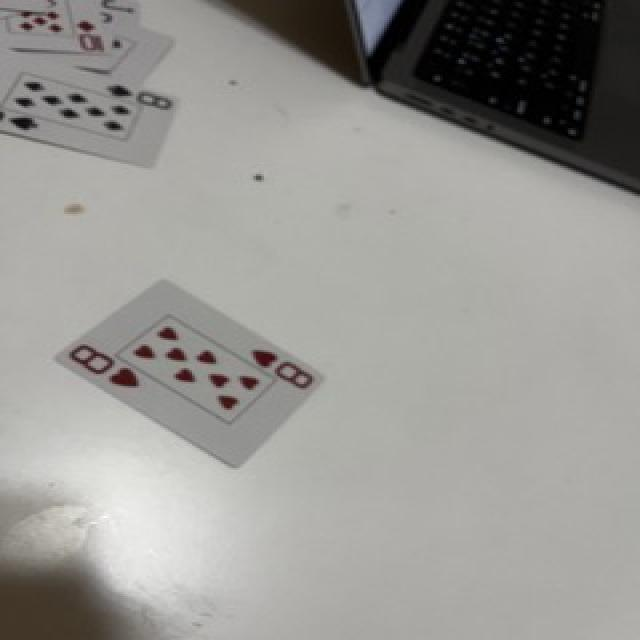8 of hearts: (57, 280, 322, 466)
